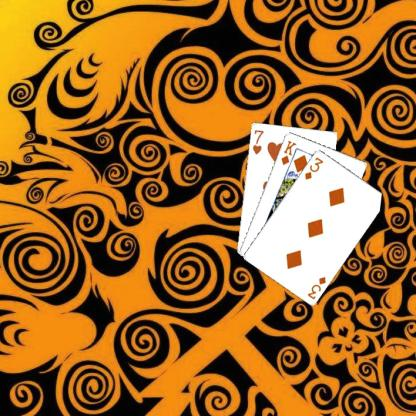3D: (304, 274, 327, 300), (302, 154, 324, 181)
7H: (250, 127, 264, 156)
KD: (278, 138, 298, 166)
